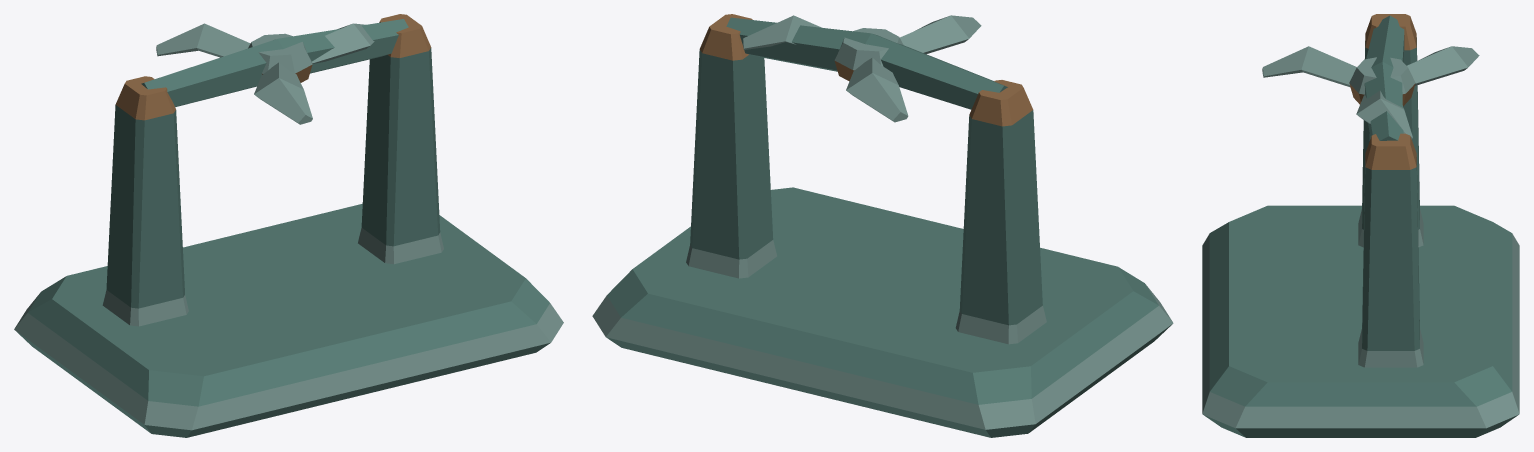
Rendered from wind-turbine.glb.
The picture shows the model from 3 angles, left to right: view 1: azimuth 30°, elevation 25°; view 2: azimuth 150°, elevation 25°; view 3: azimuth 270°, elevation 25°; orthographic projection. The views are drawn at different scales.
Visible parts, largest first — view 1: wind-turbine; view 2: wind-turbine; view 3: wind-turbine.
Part boxes in pixels (x1,y1,x2,y2): wind-turbine: (14,14,563,437); wind-turbine: (592,14,1173,437); wind-turbine: (1202,14,1519,437).
Size of the model in its own units: 4.34 by 2.92 by 2.96.
